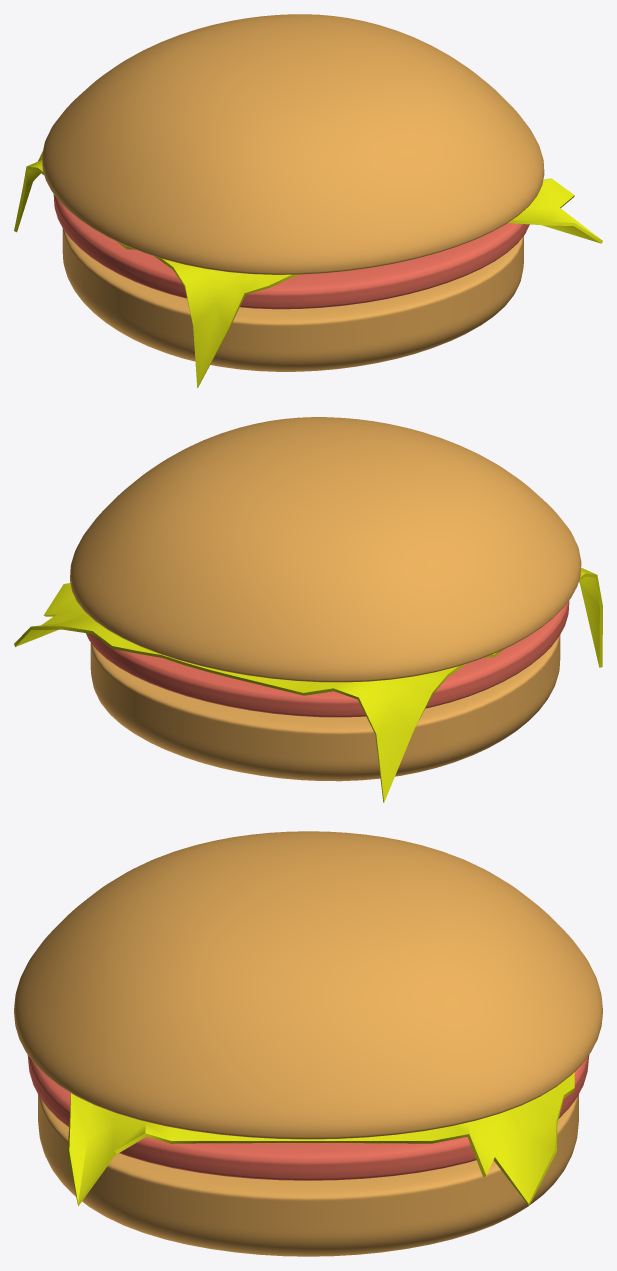
The model's file is hamburger.glb.
3 renders of one model, top to bottom at view 1: azimuth 30°, elevation 25°; view 2: azimuth 150°, elevation 25°; view 3: azimuth 270°, elevation 25°, orthographic. The views are drawn at different scales.
Visible parts, largest first — view 1: Cube.002, Cube.001, Cube, Plane; view 2: Cube.002, Cube.001, Plane, Cube; view 3: Cube.002, Cube.001, Plane, Cube.
Boxes of the visible parts, bbox=[...] form: Cube.002: bbox=[42, 14, 544, 274]; Cube.001: bbox=[62, 228, 523, 371]; Cube: bbox=[53, 194, 529, 309]; Plane: bbox=[14, 151, 602, 387]; Cube.002: bbox=[70, 417, 581, 682]; Cube.001: bbox=[90, 635, 560, 781]; Plane: bbox=[14, 567, 602, 802]; Cube: bbox=[86, 600, 569, 717]; Cube.002: bbox=[14, 831, 602, 1139]; Cube.001: bbox=[38, 1094, 578, 1256]; Plane: bbox=[67, 1072, 574, 1205]; Cube: bbox=[27, 1055, 589, 1180].
Size of the model in its own units: 10.16 by 5.73 by 10.13.
